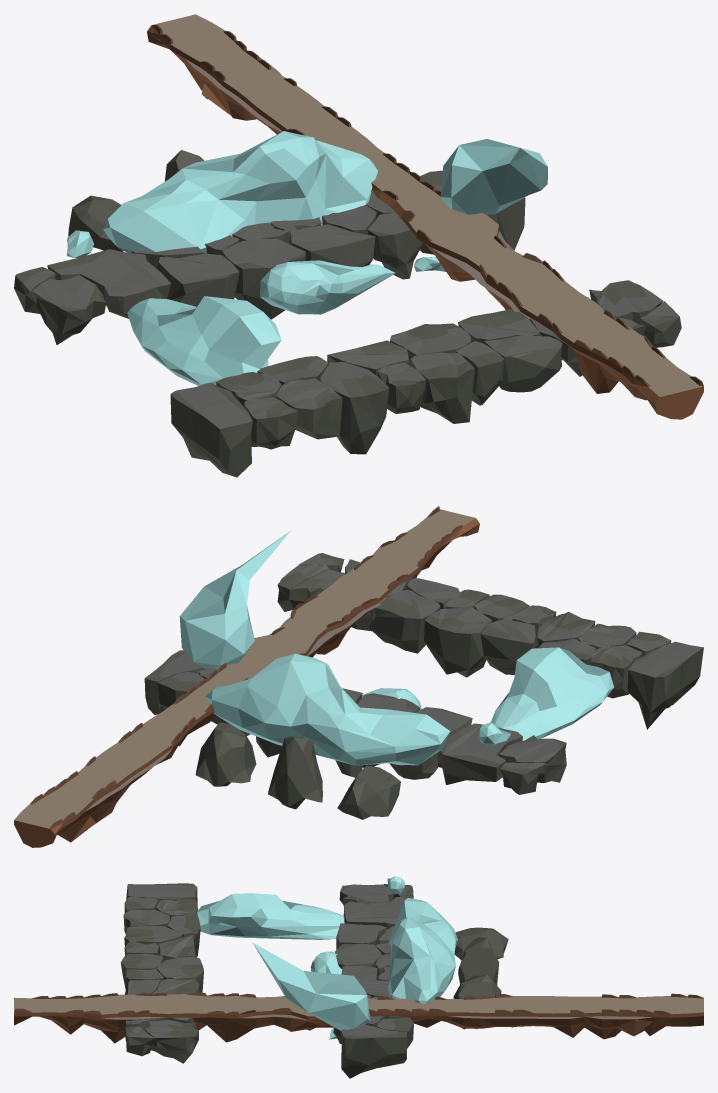
Rendered from EscenarioTierraFixedPivot.fbx.
3 views of the same model, one above another, from view 1: azimuth 30°, elevation 25°; view 2: azimuth 150°, elevation 25°; view 3: azimuth 270°, elevation 25° (orthographic). The views are drawn at different scales.
Parts seen in each view (by area): view 1: Nube02, EscenarioTierra01, EscenarioTierra02, Nube01, Nube03, Cubo.001, Nube06, Cubo.016_Cubo.013, Cubo.006, Cubo.009, Cubo.016_Cubo.014, Cubo.016_Cubo.011 (+21 smaller); view 2: Nube02, EscenarioTierra02, EscenarioTierra01, Nube01, Nube03, Cubo.001, Cubo.010, Cubo.016_Cubo.013, RocaParticula01, RocaParticula02, Cubo.013, RocaParticula03 (+19 smaller); view 3: EscenarioTierra02, EscenarioTierra01, Nube02, Nube01, Nube03, Cubo.016_Cubo.000, Cubo.016, Cubo.016_Cubo.013, RocaParticula01, Cubo.001, Cubo.010, RocaParticula03 (+21 smaller).
Part boxes in pixels (x1,y1,x2,y2): Nube02: (103,131,378,253); EscenarioTierra01: (400,201,703,419); EscenarioTierra02: (147,14,442,217); Nube01: (127,296,281,385); Nube03: (440,139,547,214); Cubo.001: (170,382,252,477); Nube06: (260,260,395,314); Cubo.016_Cubo.013: (47,249,171,318); Cubo.006: (320,361,389,454); Cubo.009: (408,352,474,423); Cubo.016_Cubo.014: (32,275,106,344); Cubo.016_Cubo.011: (157,253,239,306); Nube02: (205,653,450,765); EscenarioTierra02: (14,662,257,847); EscenarioTierra01: (227,506,479,672); Nube01: (490,647,613,740); Nube03: (179,530,291,668); Cubo.001: (627,641,703,729); Cubo.010: (424,607,491,677); Cubo.016_Cubo.013: (439,723,522,784); RocaParticula01: (268,736,322,809); RocaParticula02: (195,722,256,786); Cubo.013: (369,589,440,653); RocaParticula03: (337,765,400,819); EscenarioTierra02: (367,993,703,1039); EscenarioTierra01: (14,992,334,1043); Nube02: (388,898,457,1003); Nube01: (197,893,344,939); Nube03: (252,942,370,1030); Cubo.016_Cubo.000: (341,1024,406,1078); Cubo.016: (145,1020,198,1063); Cubo.016_Cubo.013: (343,896,413,929); RocaParticula01: (458,937,499,985); Cubo.001: (126,883,197,905); Cubo.010: (157,956,203,992); RocaParticula03: (454,927,508,959).
Size of the model in its own units: 870 by 319 by 1630.
